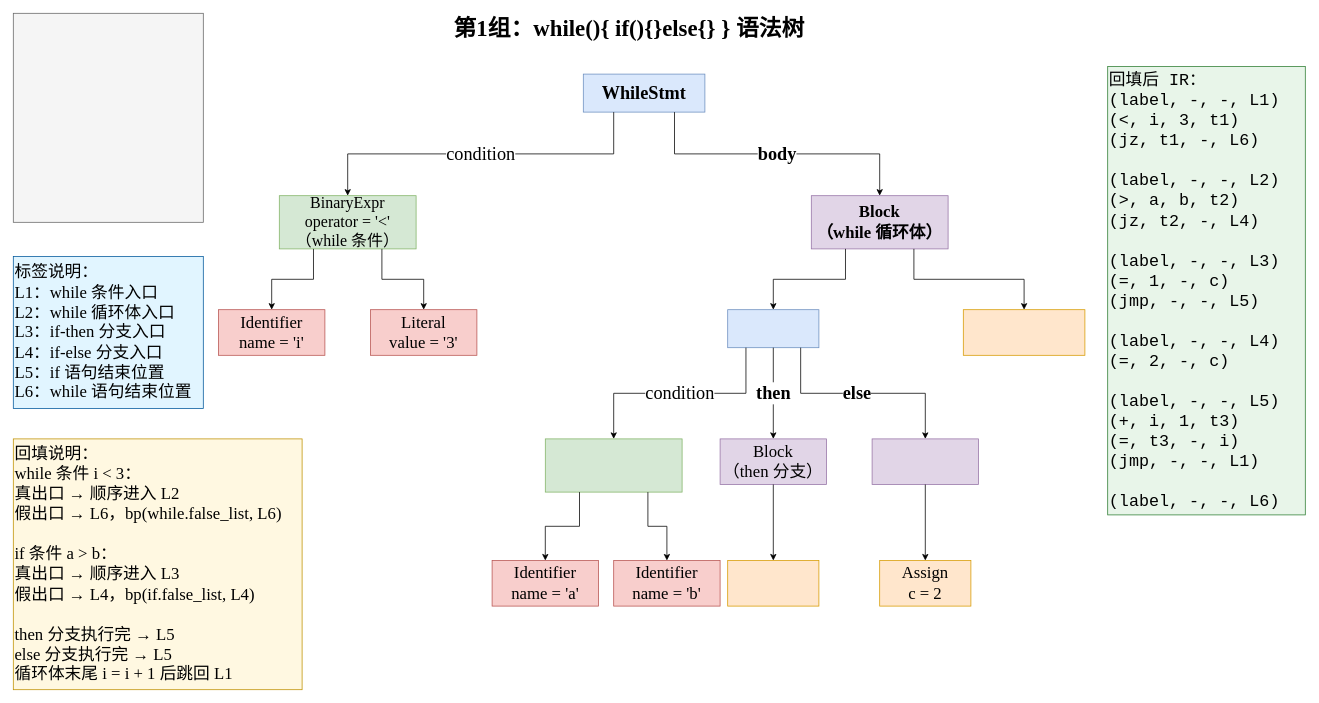
This 1319x703 diagram has some shape labels left out. The shapes that lost their labels are listed below. From the top down, each one's box as (x1, y1, x2, y2) in pixels, then its label:
(13, 13, 203, 222): 示例程序： while (i < 3) { if (a > b) { c = 1; } else { c = 2; } i = i + 1; }
(727, 309, 819, 348): IfStmt
(963, 309, 1085, 355): Assign i = i + 1
(545, 438, 682, 492): BinaryExpr operator = '>' （if 条件）
(871, 438, 978, 484): Block （else 分支）
(727, 560, 819, 606): Assign c = 1
